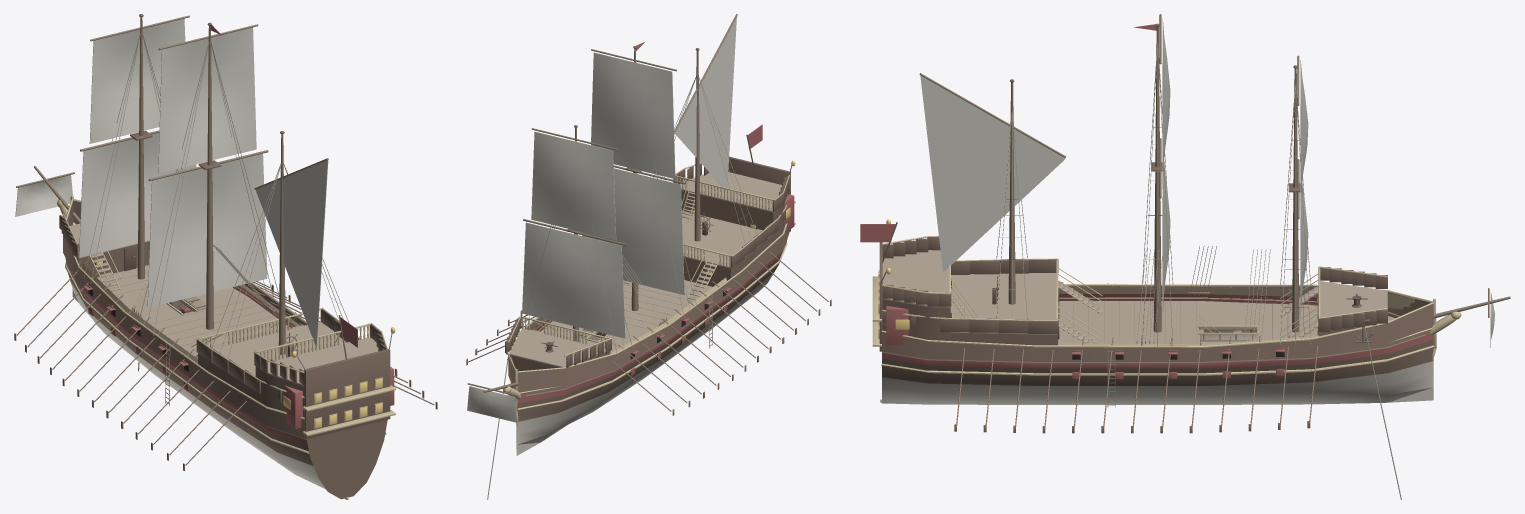
File: ship_galleon.gltf
The picture shows the model from 3 angles, left to right: view 1: azimuth 30°, elevation 25°; view 2: azimuth 150°, elevation 25°; view 3: azimuth 270°, elevation 25°; orthographic projection. The views are drawn at different scales.
Visible parts, largest first — view 1: Body, Sail2, Sail3, Sail, OarsL, Jib, OarsR, Yard2; view 2: Body, Sail3, Sail2, Sail, OarsL, Jib, Yard3; view 3: Body, Sail, OarsR, Sail2, Sail3.
Part boxes in pixels (x1,y1,x2,y2): Body: [16, 14, 395, 499]; Sail2: [147, 27, 267, 307]; Sail3: [79, 18, 196, 257]; Sail: [256, 160, 328, 347]; OarsL: [14, 261, 246, 470]; Jib: [15, 175, 72, 216]; OarsR: [247, 281, 437, 409]; Yard2: [148, 24, 268, 180]; Body: [467, 46, 795, 455]; Sail3: [522, 131, 625, 338]; Sail2: [582, 52, 684, 295]; Sail: [674, 17, 736, 191]; OarsL: [612, 251, 831, 415]; Jib: [467, 386, 517, 422]; Yard3: [523, 128, 626, 245]; Body: [860, 23, 1510, 407]; Sail: [920, 75, 1065, 272]; OarsR: [954, 333, 1318, 433]; Sail2: [1162, 18, 1170, 326]; Sail3: [1300, 60, 1308, 326].
Size of the model in its own units: 19.72 by 32.51 by 42.42.
